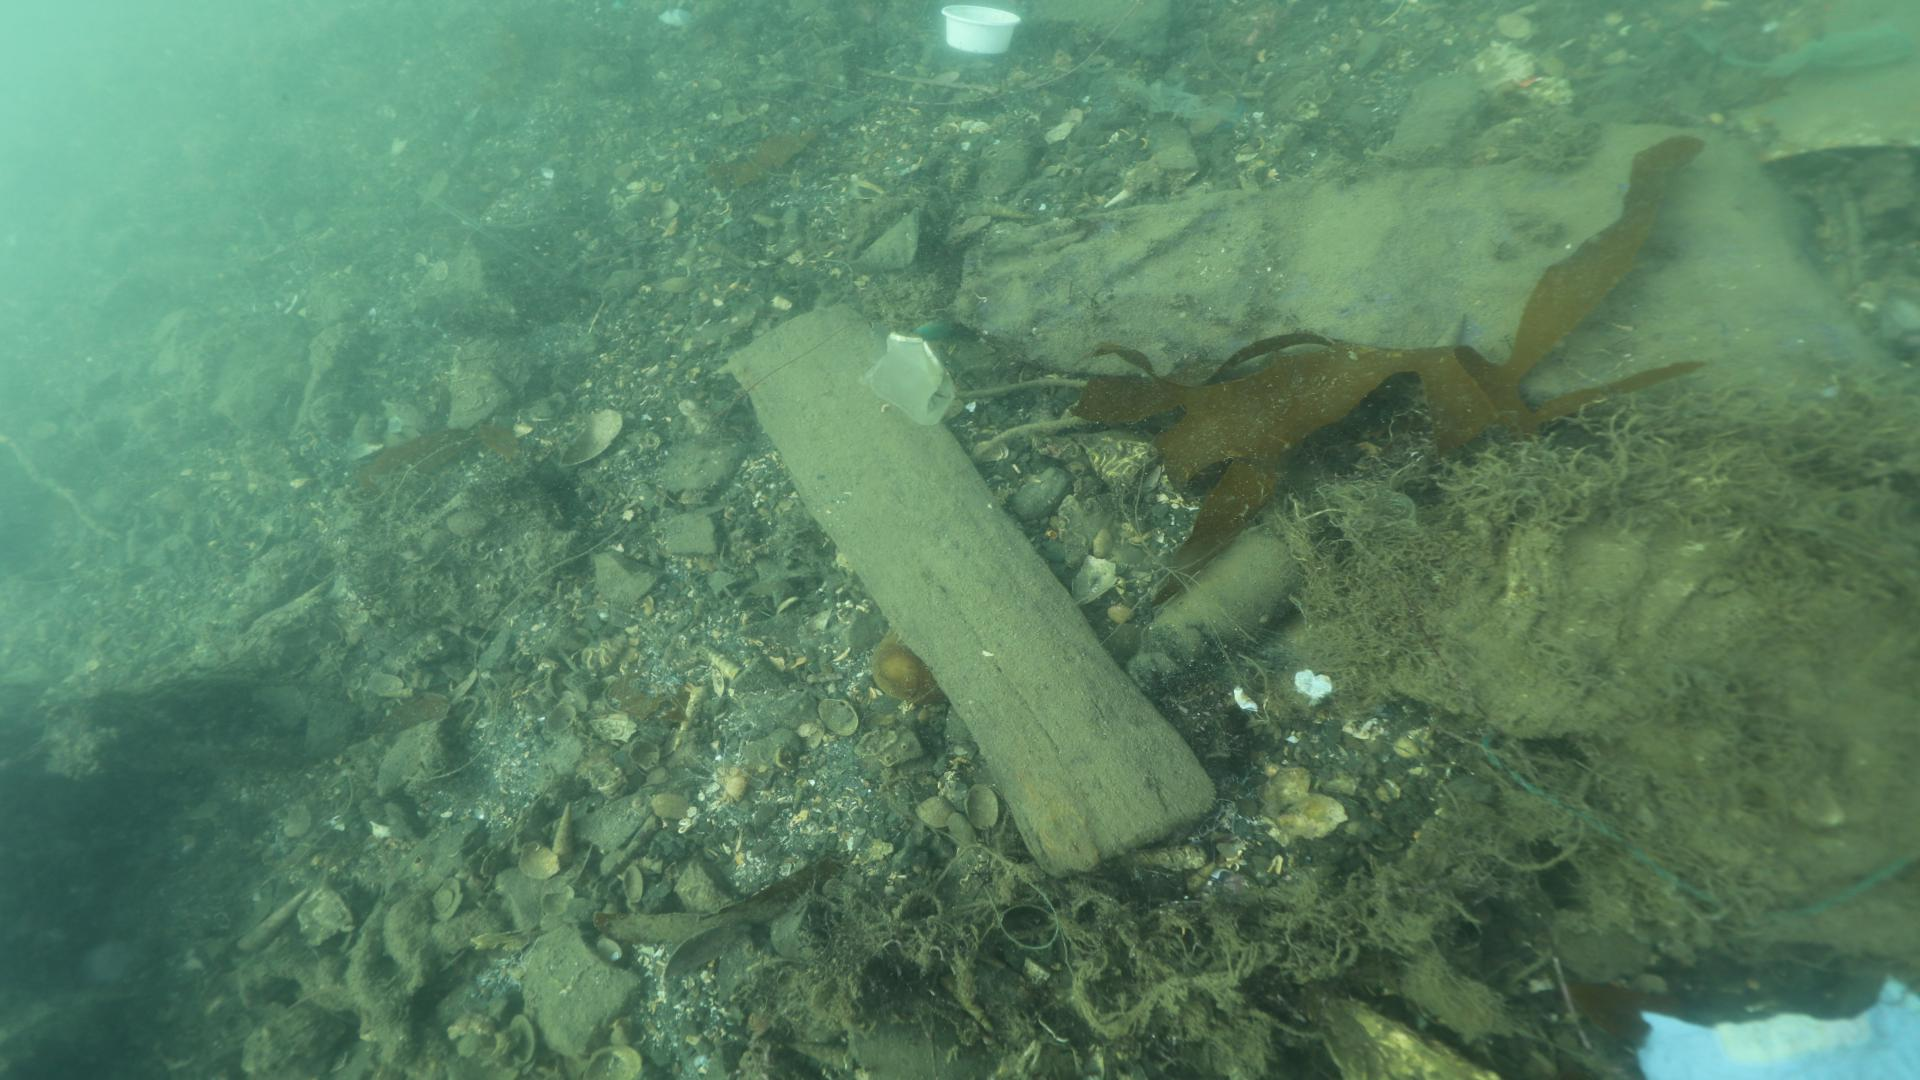wood: (724, 299, 1218, 881)
